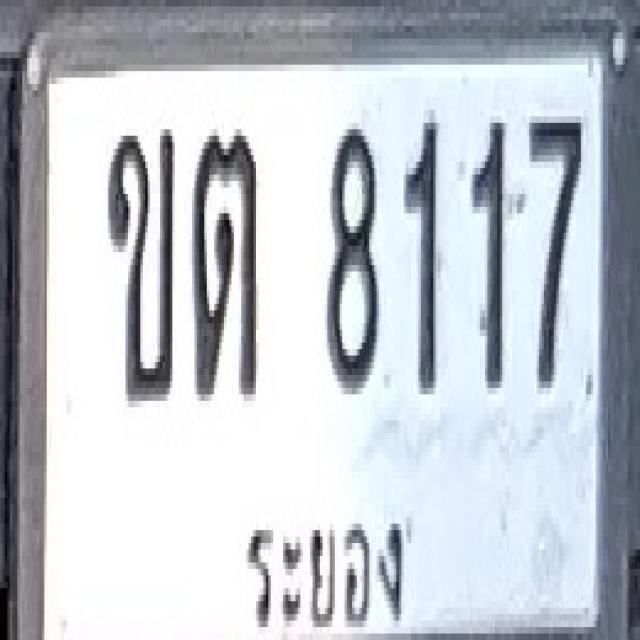1: (470, 116, 505, 388), (404, 113, 438, 391)
7: (528, 113, 582, 385)
8: (326, 123, 378, 388)
A02: (106, 126, 175, 404)
A21: (192, 126, 258, 398)
RYG: (230, 499, 415, 640)
